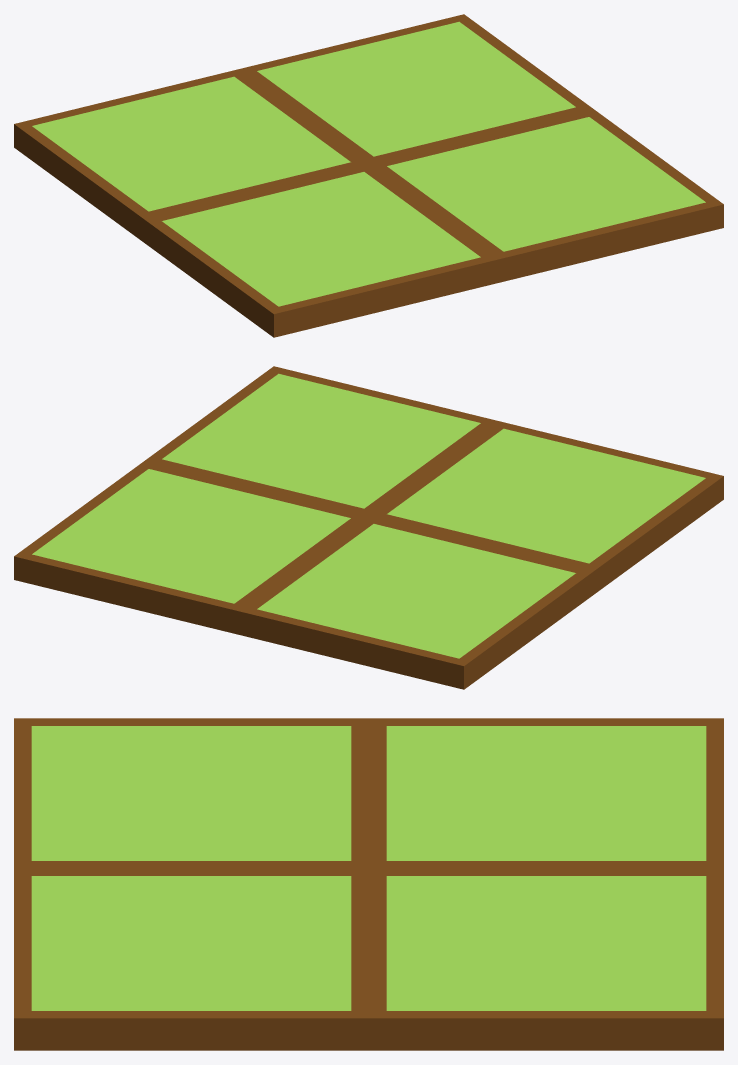
Rendered from Ground4.fbx.
3 views of the same model, one above another, from view 1: azimuth 30°, elevation 25°; view 2: azimuth 150°, elevation 25°; view 3: azimuth 270°, elevation 25° (orthographic). The views are drawn at different scales.
Parts seen in each view (by area): view 1: Cube; view 2: Cube; view 3: Cube.
Boxes of the visible parts, bbox=[...] form: Cube: bbox=[14, 14, 723, 337]; Cube: bbox=[14, 366, 723, 689]; Cube: bbox=[14, 718, 723, 1050].
Size of the model in its own units: 4000 by 200 by 4000.
